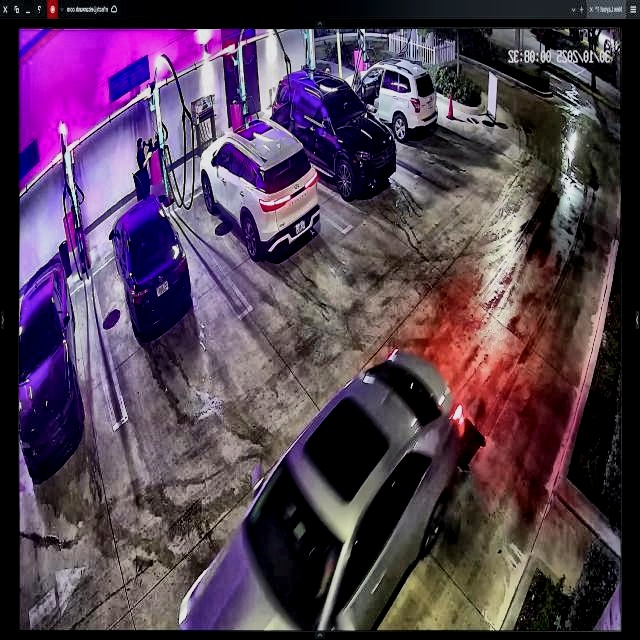Car: (178, 350, 466, 630), (198, 118, 318, 262), (271, 72, 396, 194), (107, 197, 191, 338)
